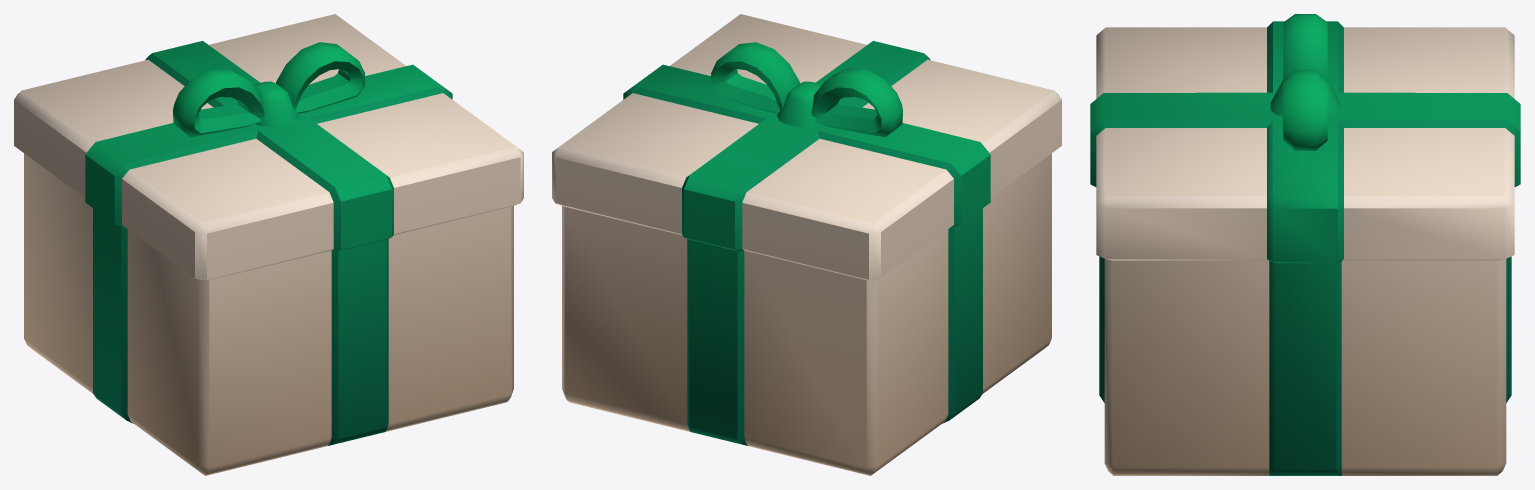
The model's file is Present_D.gltf.
3 renders of one model, left to right at view 1: azimuth 30°, elevation 25°; view 2: azimuth 150°, elevation 25°; view 3: azimuth 270°, elevation 25°, orthographic. The views are drawn at different scales.
Parts seen in each view (by area): view 1: Present_D; view 2: Present_D; view 3: Present_D.
Part boxes in pixels (x1=…): Present_D: x1=14, y1=14, x2=523, y2=475; Present_D: x1=552, y1=14, x2=1061, y2=475; Present_D: x1=1090, y1=14, x2=1520, y2=475.
Size of the model in its own units: 0.9638 by 0.8617 by 0.9638.
1 material, 1 textured.
